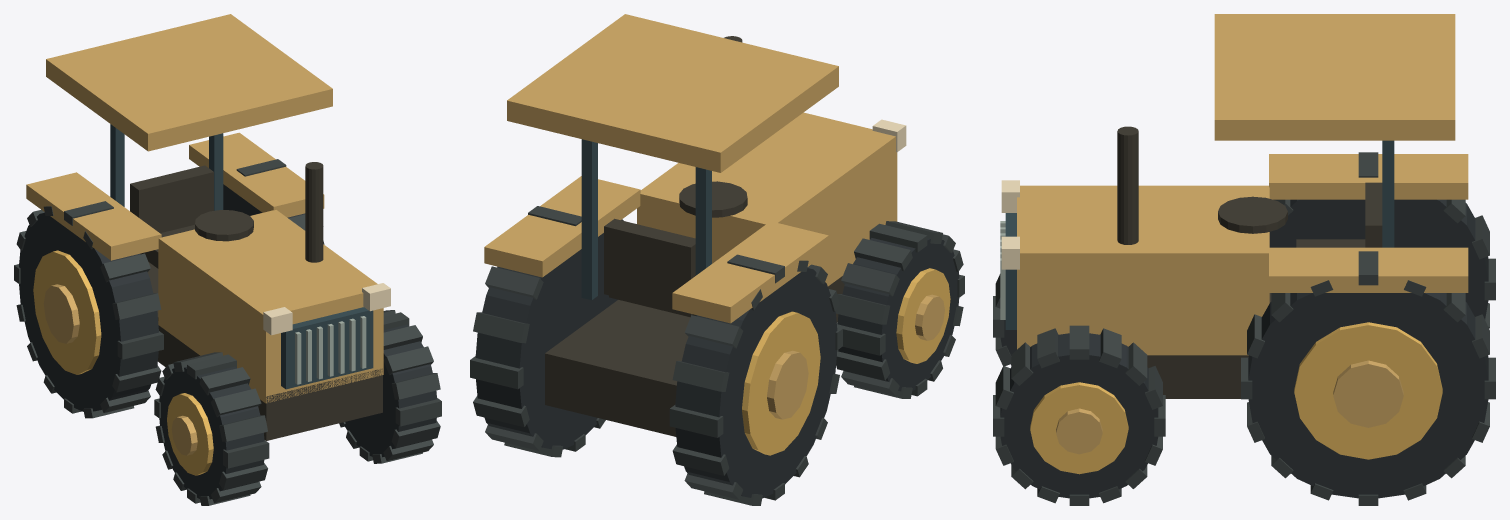
File: ochre_tractor.glb
3 views of the same model, side by side, from view 1: azimuth 30°, elevation 25°; view 2: azimuth 150°, elevation 25°; view 3: azimuth 270°, elevation 25° (orthographic). The views are drawn at different scales.
Parts seen in each view (by area): view 1: Chassis.001, RearLeft.001, FrontLeft.001, FrontRight.001, RearRight.001; view 2: Chassis.001, RearLeft.001, FrontLeft.001, RearRight.001; view 3: Chassis.001, RearRight.001, FrontRight.001, RearLeft.001, FrontLeft.001.
Part boxes in pixels (x1,y1,x2,y2): Chassis.001: [26, 14, 390, 440]; RearLeft.001: [14, 201, 163, 418]; FrontLeft.001: [154, 352, 269, 505]; FrontRight.001: [339, 310, 441, 463]; RearRight.001: [223, 159, 324, 244]; Chassis.001: [484, 14, 906, 436]; RearLeft.001: [669, 254, 842, 505]; FrontLeft.001: [835, 221, 964, 398]; RearRight.001: [470, 206, 623, 457]; Chassis.001: [1000, 14, 1468, 398]; RearRight.001: [1241, 251, 1495, 505]; FrontRight.001: [993, 325, 1165, 505]; RearLeft.001: [1269, 152, 1495, 328]; FrontLeft.001: [993, 274, 1016, 365].
Bounding box in the file's own units: 2.08 × 2.74 × 3.31.
